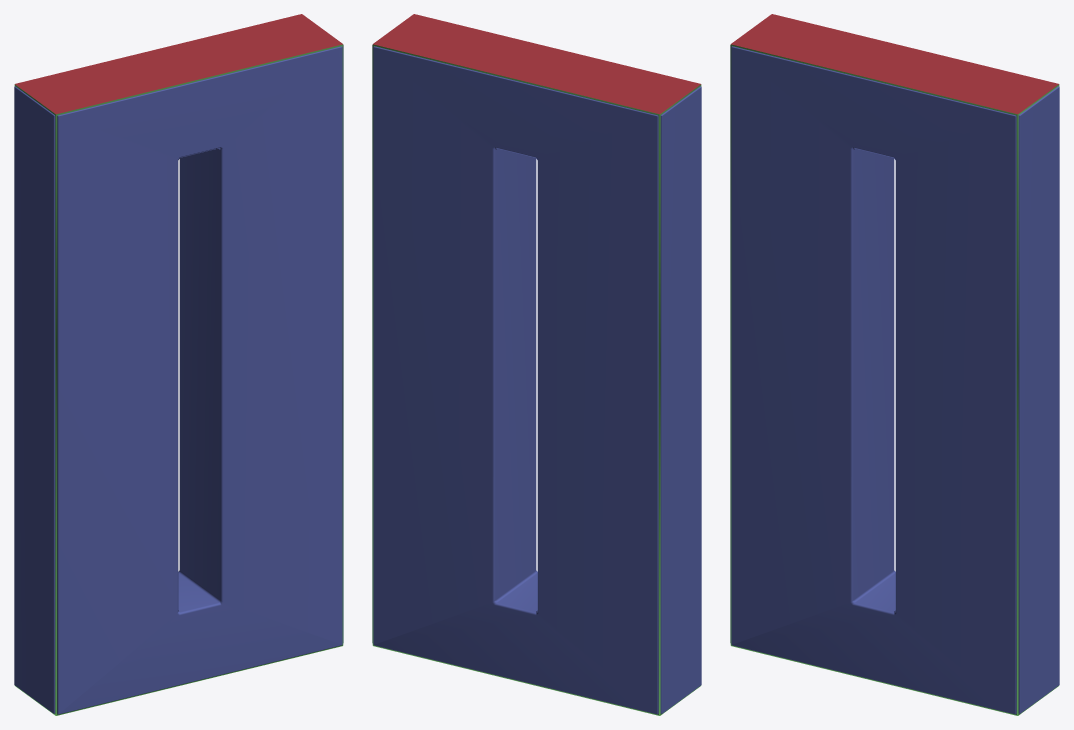
File: SM_Window_01.fbx
The picture shows the model from 3 angles, left to right: view 1: azimuth 30°, elevation 25°; view 2: azimuth 150°, elevation 25°; view 3: azimuth 330°, elevation 25°; orthographic projection.
Visible parts, largest first — view 1: SM_Window_01; view 2: SM_Window_01; view 3: SM_Window_01.
Boxes of the visible parts, left/top/right/bottom form: SM_Window_01: left=14, top=14, right=343, bottom=715; SM_Window_01: left=372, top=14, right=701, bottom=715; SM_Window_01: left=730, top=14, right=1059, bottom=715.
Size of the model in its own units: 404 by 800 by 104.
